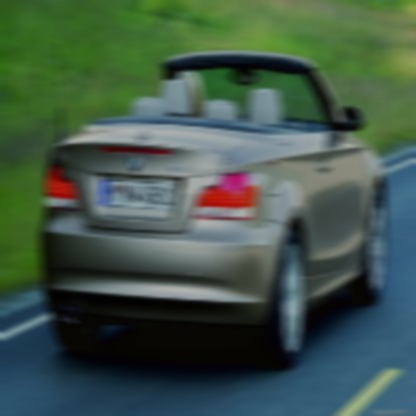Vehicle: (39, 43, 386, 366)
